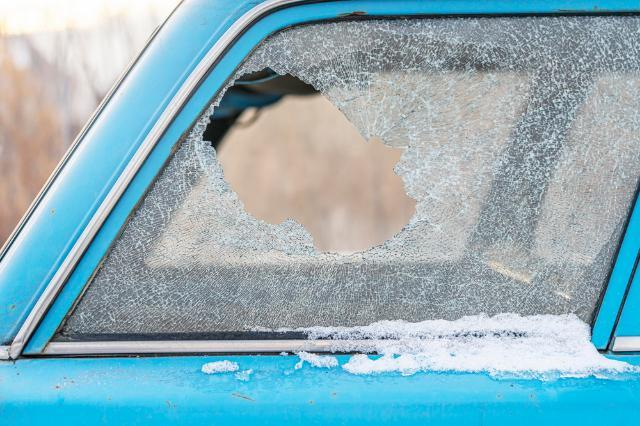glass shatter: (53, 13, 640, 341)
